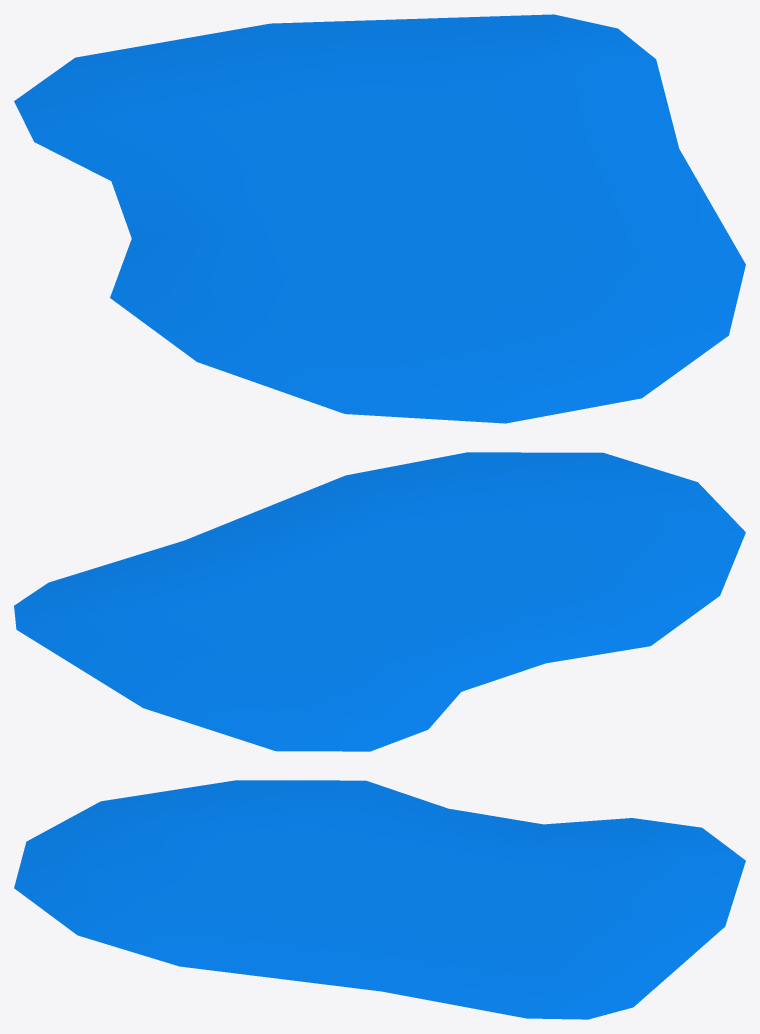
File: Puddle_A.fbx
3 renders of one model, top to bottom at view 1: azimuth 30°, elevation 25°; view 2: azimuth 150°, elevation 25°; view 3: azimuth 270°, elevation 25°, orthographic. The views are drawn at different scales.
Parts seen in each view (by area): view 1: Puddle_A; view 2: Puddle_A; view 3: Puddle_A.
Boxes of the visible parts, x1,y1,x2,y2 form: Puddle_A: (14, 14, 745, 423); Puddle_A: (14, 452, 745, 751); Puddle_A: (14, 780, 745, 1019).
Bounding box in the file's own units: 67.95 × 0.7562 × 87.87.
